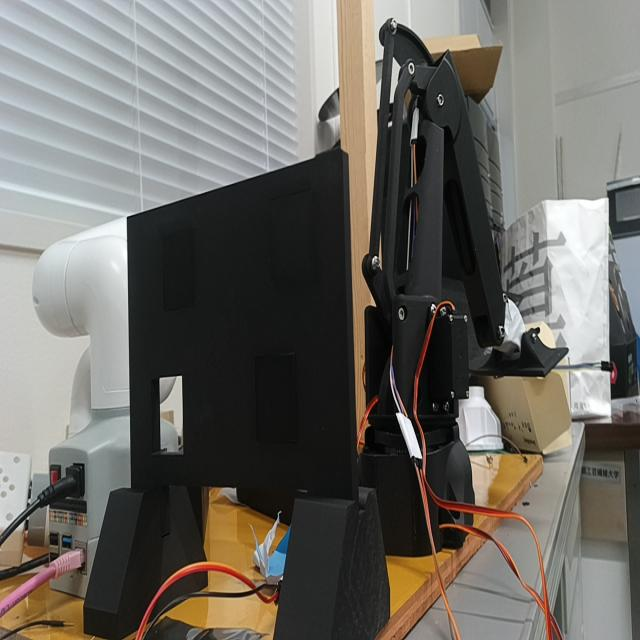Obstacle: (159, 375, 184, 457)
Wall: (126, 148, 351, 492)
